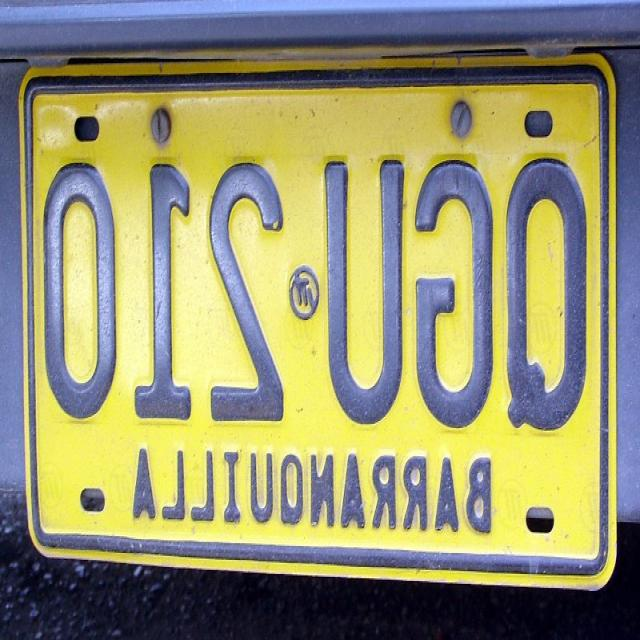placas: (38, 154, 596, 437)
